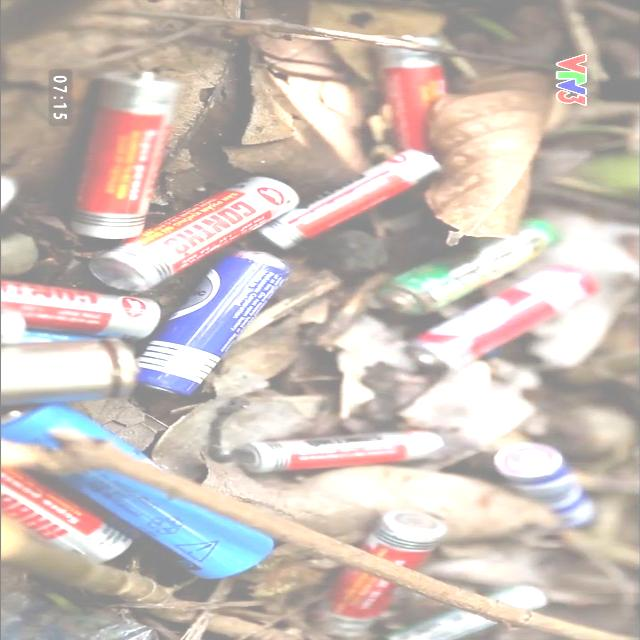AA: (131, 246, 296, 400), (86, 174, 299, 293), (398, 261, 603, 374)
AAA: (253, 144, 448, 253), (66, 67, 183, 240), (226, 428, 448, 477)
